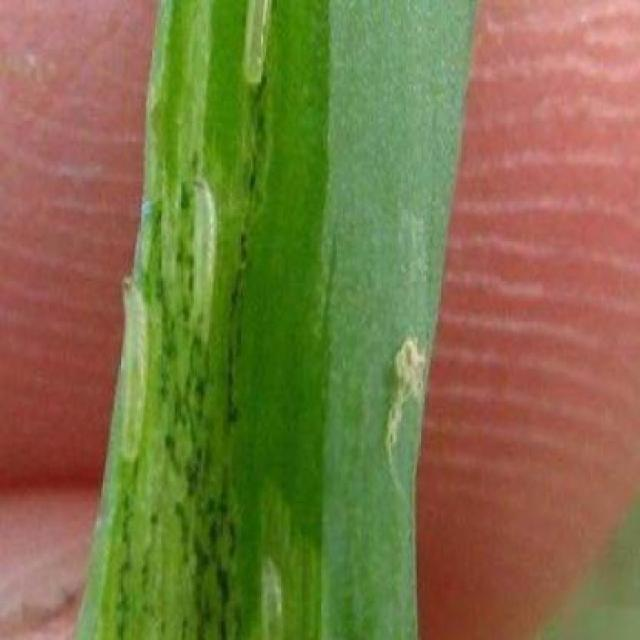whorl-maggot: (116, 269, 150, 474), (185, 171, 223, 351), (240, 0, 275, 94), (257, 554, 286, 640)
